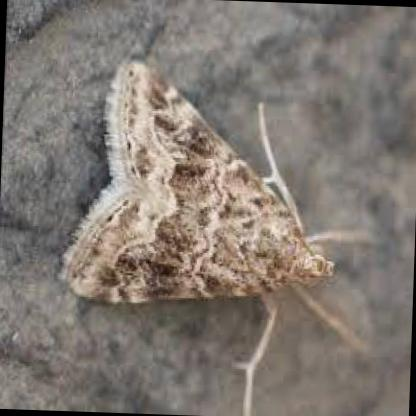Hellula undalis: (58, 59, 336, 304)
